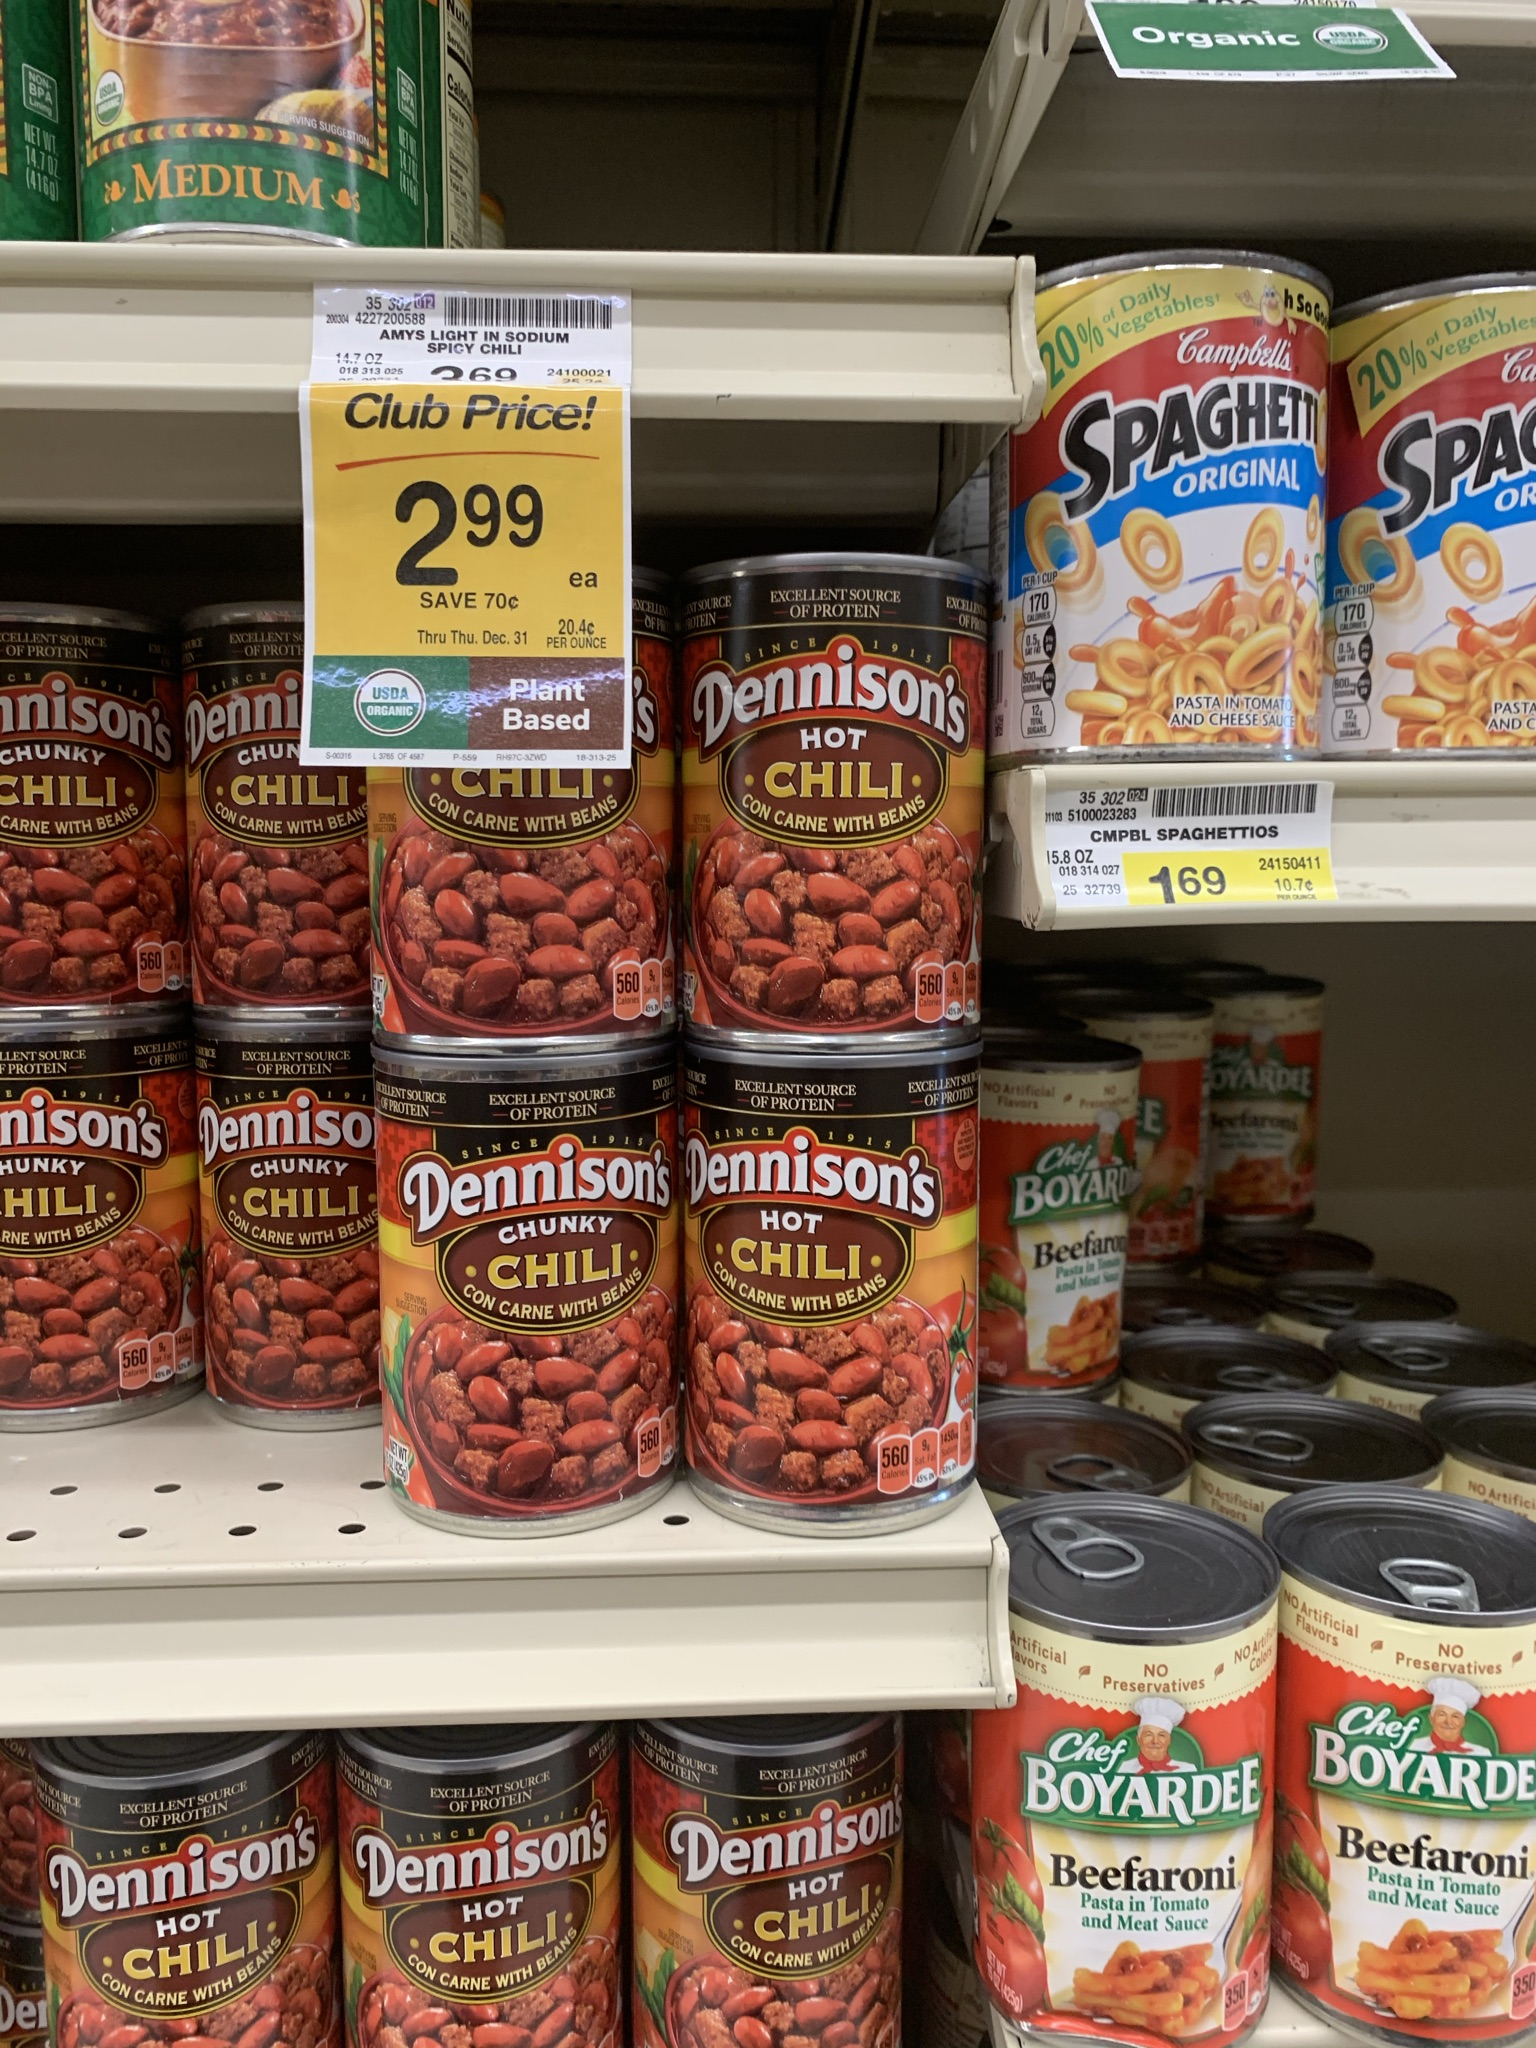can: (700, 572, 970, 1027), (1058, 285, 1307, 751), (716, 1074, 983, 1488), (402, 1076, 645, 1522), (1294, 1574, 1536, 2016), (1021, 1601, 1265, 2033), (1342, 305, 1536, 734), (652, 1737, 904, 2048), (45, 1761, 319, 2046), (357, 1758, 607, 2045), (2, 1040, 168, 1405), (205, 1066, 371, 1417), (2, 639, 157, 992), (190, 627, 323, 1001)
